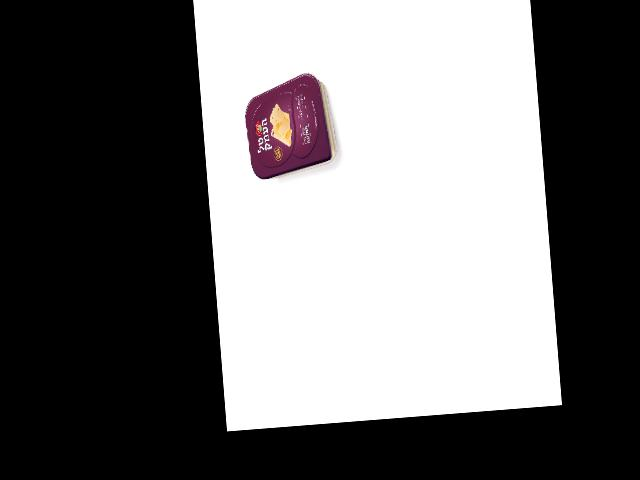cheese: (241, 71, 338, 180)
